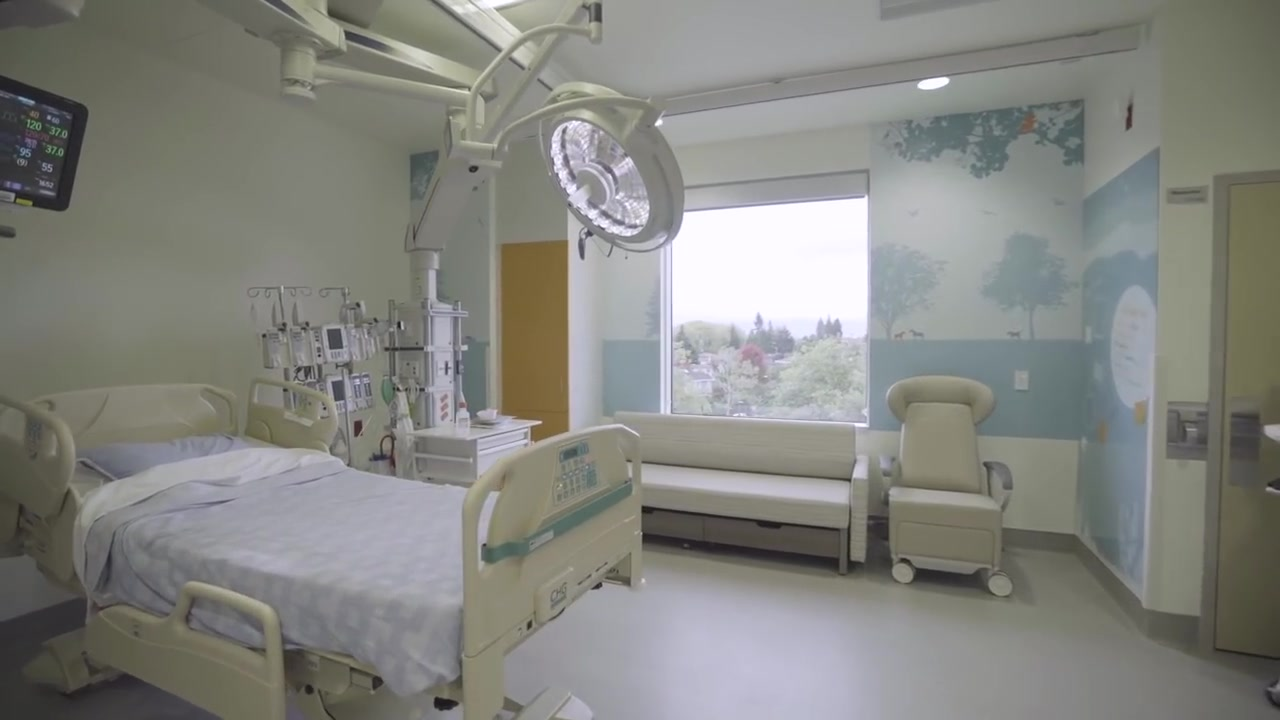bedrail: (77, 580, 287, 720), (1, 392, 70, 513), (244, 374, 338, 457)
bedside_monitor: (1, 71, 88, 209)
bedside_table: (404, 415, 543, 489)
chair: (877, 375, 1012, 598)
foot_board: (460, 423, 643, 658)
hospital_bed: (1, 383, 648, 720)
infusion_pump: (261, 324, 376, 365), (284, 372, 374, 418)
iv_pole: (245, 284, 314, 369), (317, 285, 354, 374)
light_switch: (1014, 369, 1029, 391)
sofa: (588, 411, 871, 576)
surgical_light: (537, 81, 686, 255)
